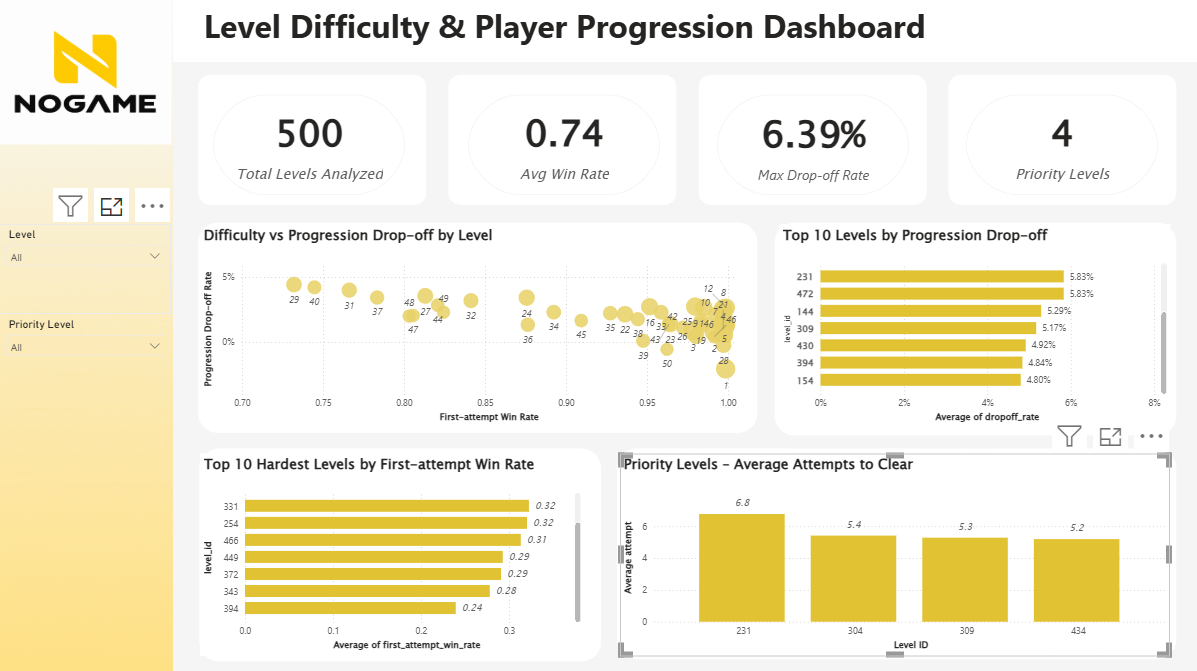

The page's visual inventory and layout, read from the dashboard file:
{"tool":"powerbi","page":{"name":"Page 1","canvas":[1600,900],"ordinal":0},"visuals":[{"type":"cardVisual","fields":{"Data":["level_analysis.Total Levels Analyzed"]},"box":[268,110,290,168.3],"z":0},{"type":"scatterChart","title":"Difficulty vs Progression Drop-off by Level","fields":{"Category":["dashboard_levels.level_id"],"X":["Sum(dashboard_levels.first_attempt_win_rate)"],"Y":["Sum(dashboard_levels.dropoff_rate)"],"Size":["Sum(dashboard_levels.users)"]},"box":[268,300,732,272],"z":1000},{"type":"cardVisual","fields":{"Data":["level_analysis.Avg First Attempt Win Rate"]},"box":[608,110,290,168.3],"z":2000},{"type":"cardVisual","fields":{"Data":["Max(dashboard_levels.dropoff_rate)"]},"box":[940,110,290,168.3],"z":3000},{"type":"cardVisual","fields":{"Data":["final_shortlist.Priority Levels"]},"box":[1272,110,290,168.3],"z":4000},{"type":"clusteredBarChart","title":"Top 10 Levels by Progression Drop-off","fields":{"Category":["dashboard_levels.level_id"],"Y":["Avg(dashboard_levels.dropoff_rate)"]},"box":[1040,300,522,272],"z":5000},{"type":"clusteredBarChart","title":"Top 10 Hardest Levels by First-attempt Win Rate","fields":{"Category":["level_analysis.level_id"],"Y":["Avg(level_analysis.first_attempt_win_rate)"]},"box":[267.5,605,512.5,270],"z":6000},{"type":"clusteredColumnChart","title":"Priority Levels – Average Attempts to Clear","fields":{"Y":["Sum(dashboard_levels.avg_attempt)"],"Category":["dashboard_levels.level_id"]},"box":[827.5,605,735,270],"z":7000},{"type":"slicer","fields":{"Values":["dashboard_levels.is_priority"]},"box":[0,420,230,120],"z":8000},{"type":"slicer","fields":{"Values":["dashboard_levels.level_id"]},"box":[0,300,230,120],"z":9000},{"type":"image","box":[0,0,230,194],"z":10000},{"type":"textbox","box":[267.5,0,1332.5,80],"z":11000}]}

Visuals, with their boxes on the page's 1600x900 design canvas (x1, y1, x2, y2). These are canvas units, not pixel positions in the 1197x671 screenshot, which may show the page scaled, cropped or inside an application window:
cardVisual - level_analysis.Total Levels Analyzed: box=[268, 110, 558, 278]
"Difficulty vs Progression Drop-off by Level" scatterChart: box=[268, 300, 1000, 572]
cardVisual - level_analysis.Avg First Attempt Win Rate: box=[608, 110, 898, 278]
cardVisual - Max(dashboard_levels.dropoff_rate): box=[940, 110, 1230, 278]
cardVisual - final_shortlist.Priority Levels: box=[1272, 110, 1562, 278]
"Top 10 Levels by Progression Drop-off" clusteredBarChart: box=[1040, 300, 1562, 572]
"Top 10 Hardest Levels by First-attempt Win Rate" clusteredBarChart: box=[268, 605, 780, 875]
"Priority Levels – Average Attempts to Clear" clusteredColumnChart: box=[828, 605, 1562, 875]
slicer - dashboard_levels.is_priority: box=[0, 420, 230, 540]
slicer - dashboard_levels.level_id: box=[0, 300, 230, 420]
image: box=[0, 0, 230, 194]
textbox: box=[268, 0, 1600, 80]
